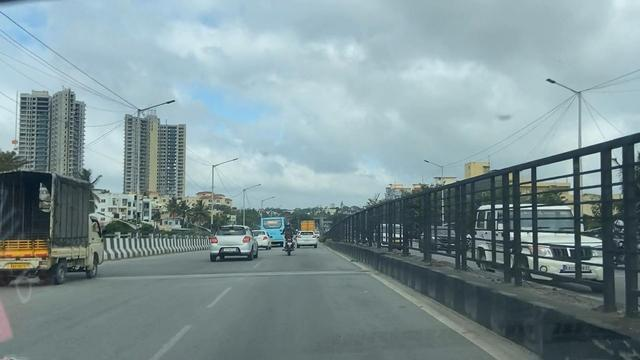HMV: (0, 170, 118, 287), (253, 203, 288, 253)
LMV: (209, 209, 262, 266), (274, 208, 310, 267), (288, 220, 320, 252)
